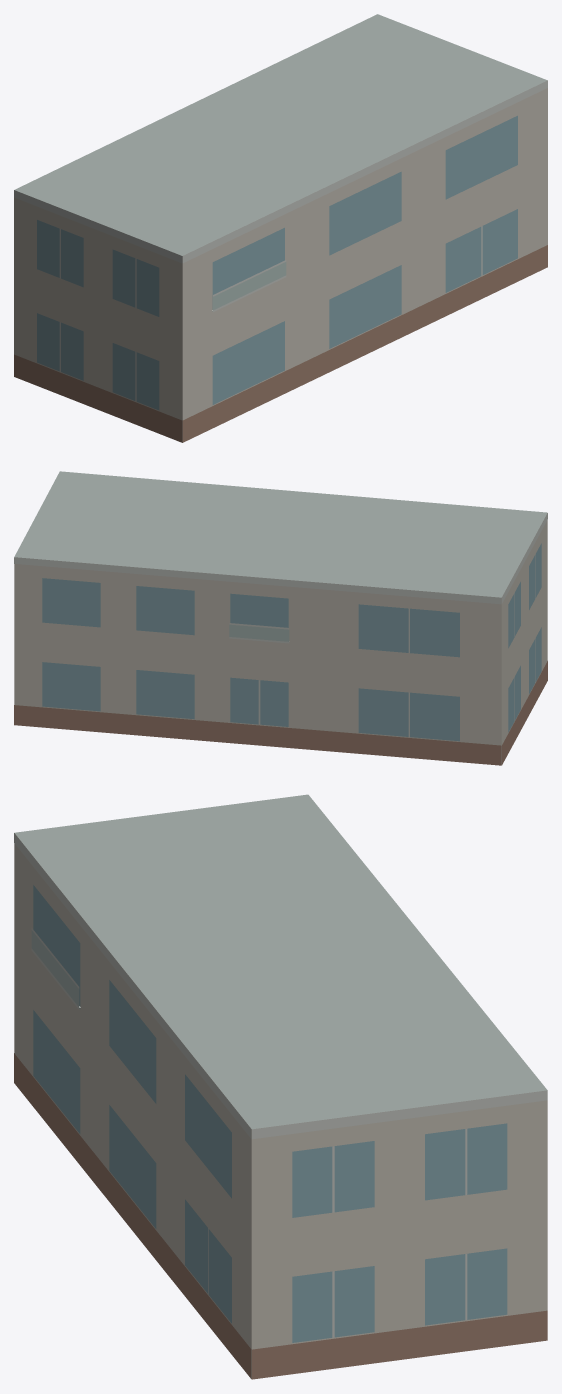
Rendered from survey-upis-33022730.glb.
3 renders of one model, top to bottom at view 1: azimuth 30°, elevation 25°; view 2: azimuth 150°, elevation 25°; view 3: azimuth 270°, elevation 25°, orthographic. The views are drawn at different scales.
Visible parts, largest first — view 1: survey-upis-33022730.tmp; view 2: survey-upis-33022730.tmp; view 3: survey-upis-33022730.tmp.
Part boxes in pixels (x1,y1,x2,y2): survey-upis-33022730.tmp: (14,14,547,442); survey-upis-33022730.tmp: (14,471,547,765); survey-upis-33022730.tmp: (14,794,547,1379).
Size of the model in its own units: 17.53 by 6.1 by 11.8.
